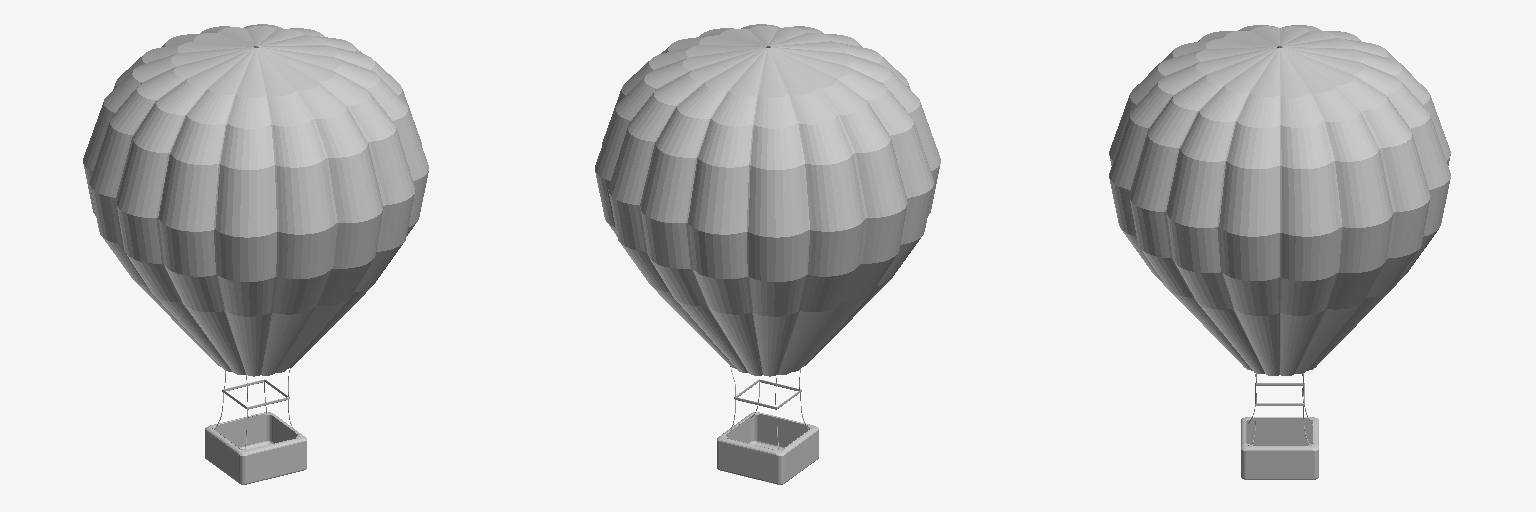
File: balloon.obj
3 views of the same model, side by side, from view 1: azimuth 30°, elevation 25°; view 2: azimuth 150°, elevation 25°; view 3: azimuth 270°, elevation 25° (orthographic).
Visible parts, largest first — view 1: Cycloid.001, Cube; view 2: Cycloid.001, Cube; view 3: Cycloid.001, Cube.
Boxes of the visible parts, x1,y1,x2,y2 form: Cycloid.001: [83, 24, 428, 376]; Cube: [205, 412, 306, 484]; Cycloid.001: [595, 24, 940, 376]; Cube: [717, 412, 818, 484]; Cycloid.001: [1109, 25, 1450, 375]; Cube: [1241, 417, 1318, 479].
Bounding box in the file's own units: 8.76 × 11.81 × 8.77.